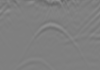hyperbola: (24, 21, 84, 62), (17, 57, 57, 70)
